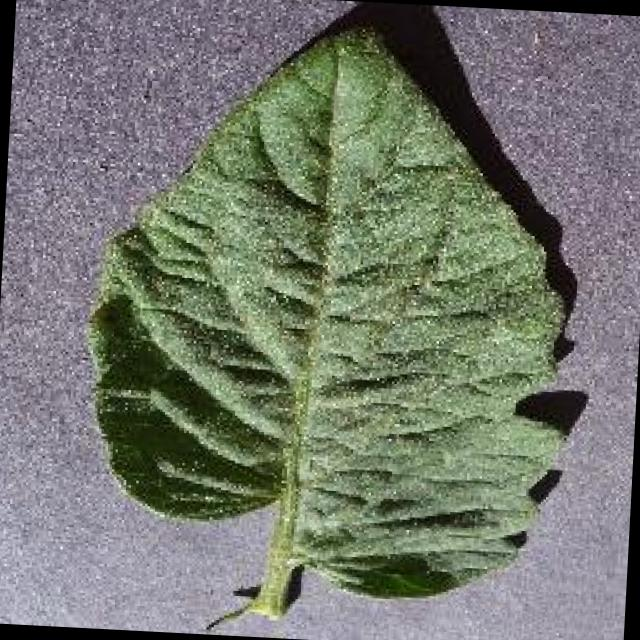Tomato_Healthy: (51, 21, 593, 610)
